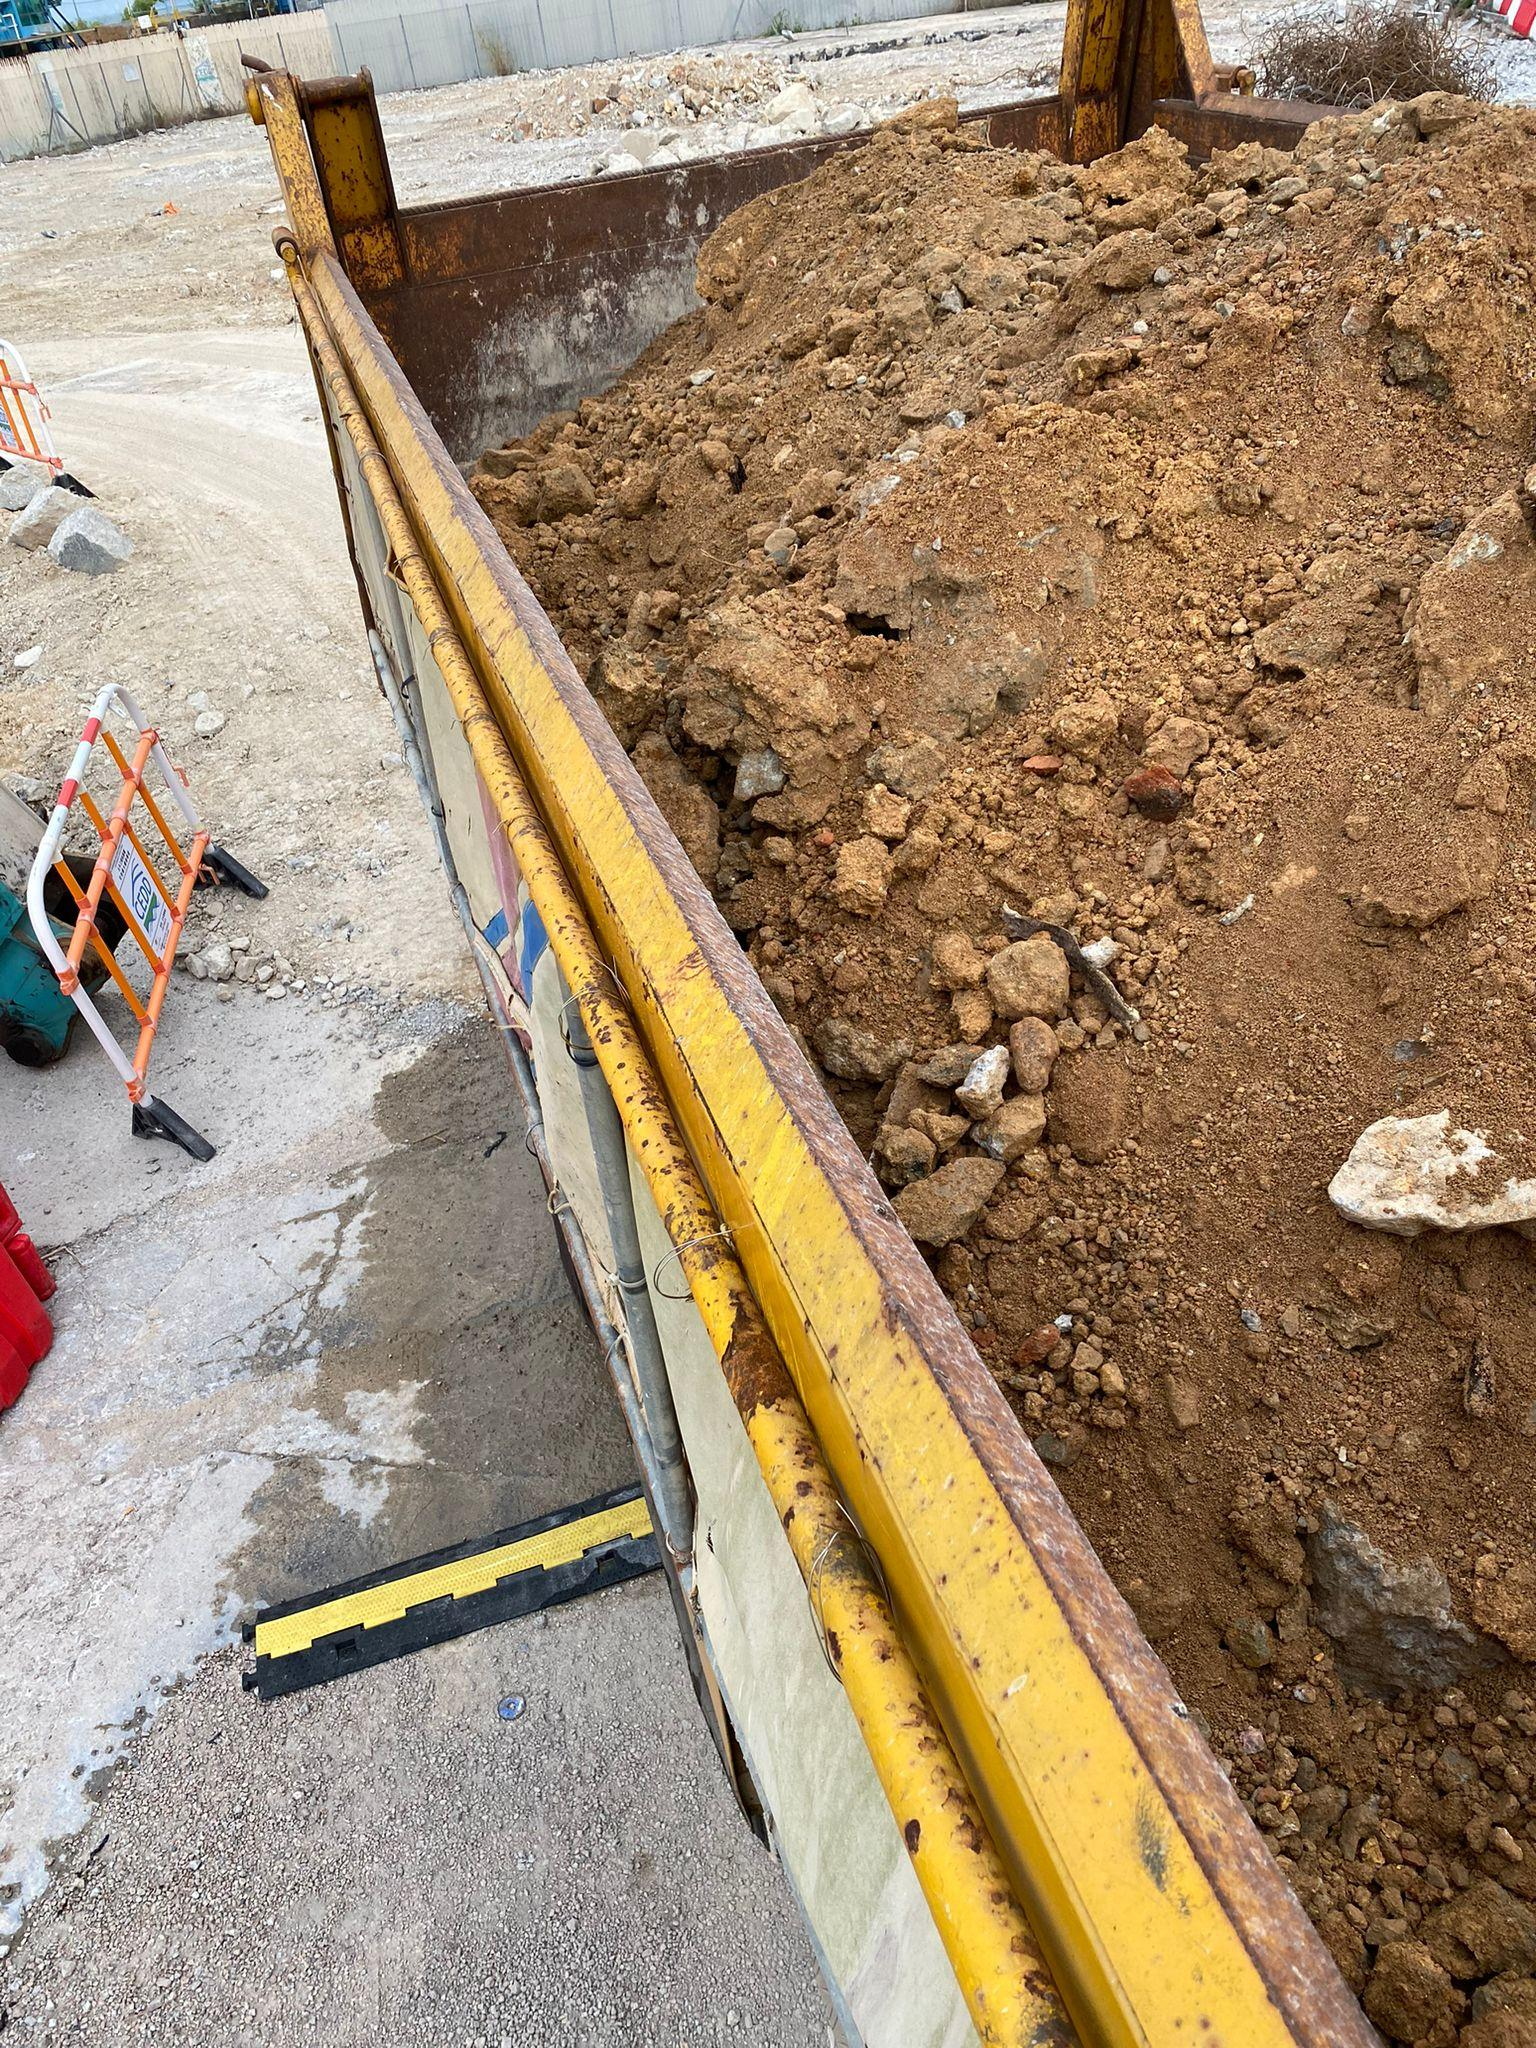wet: (510, 113, 1536, 2048)
